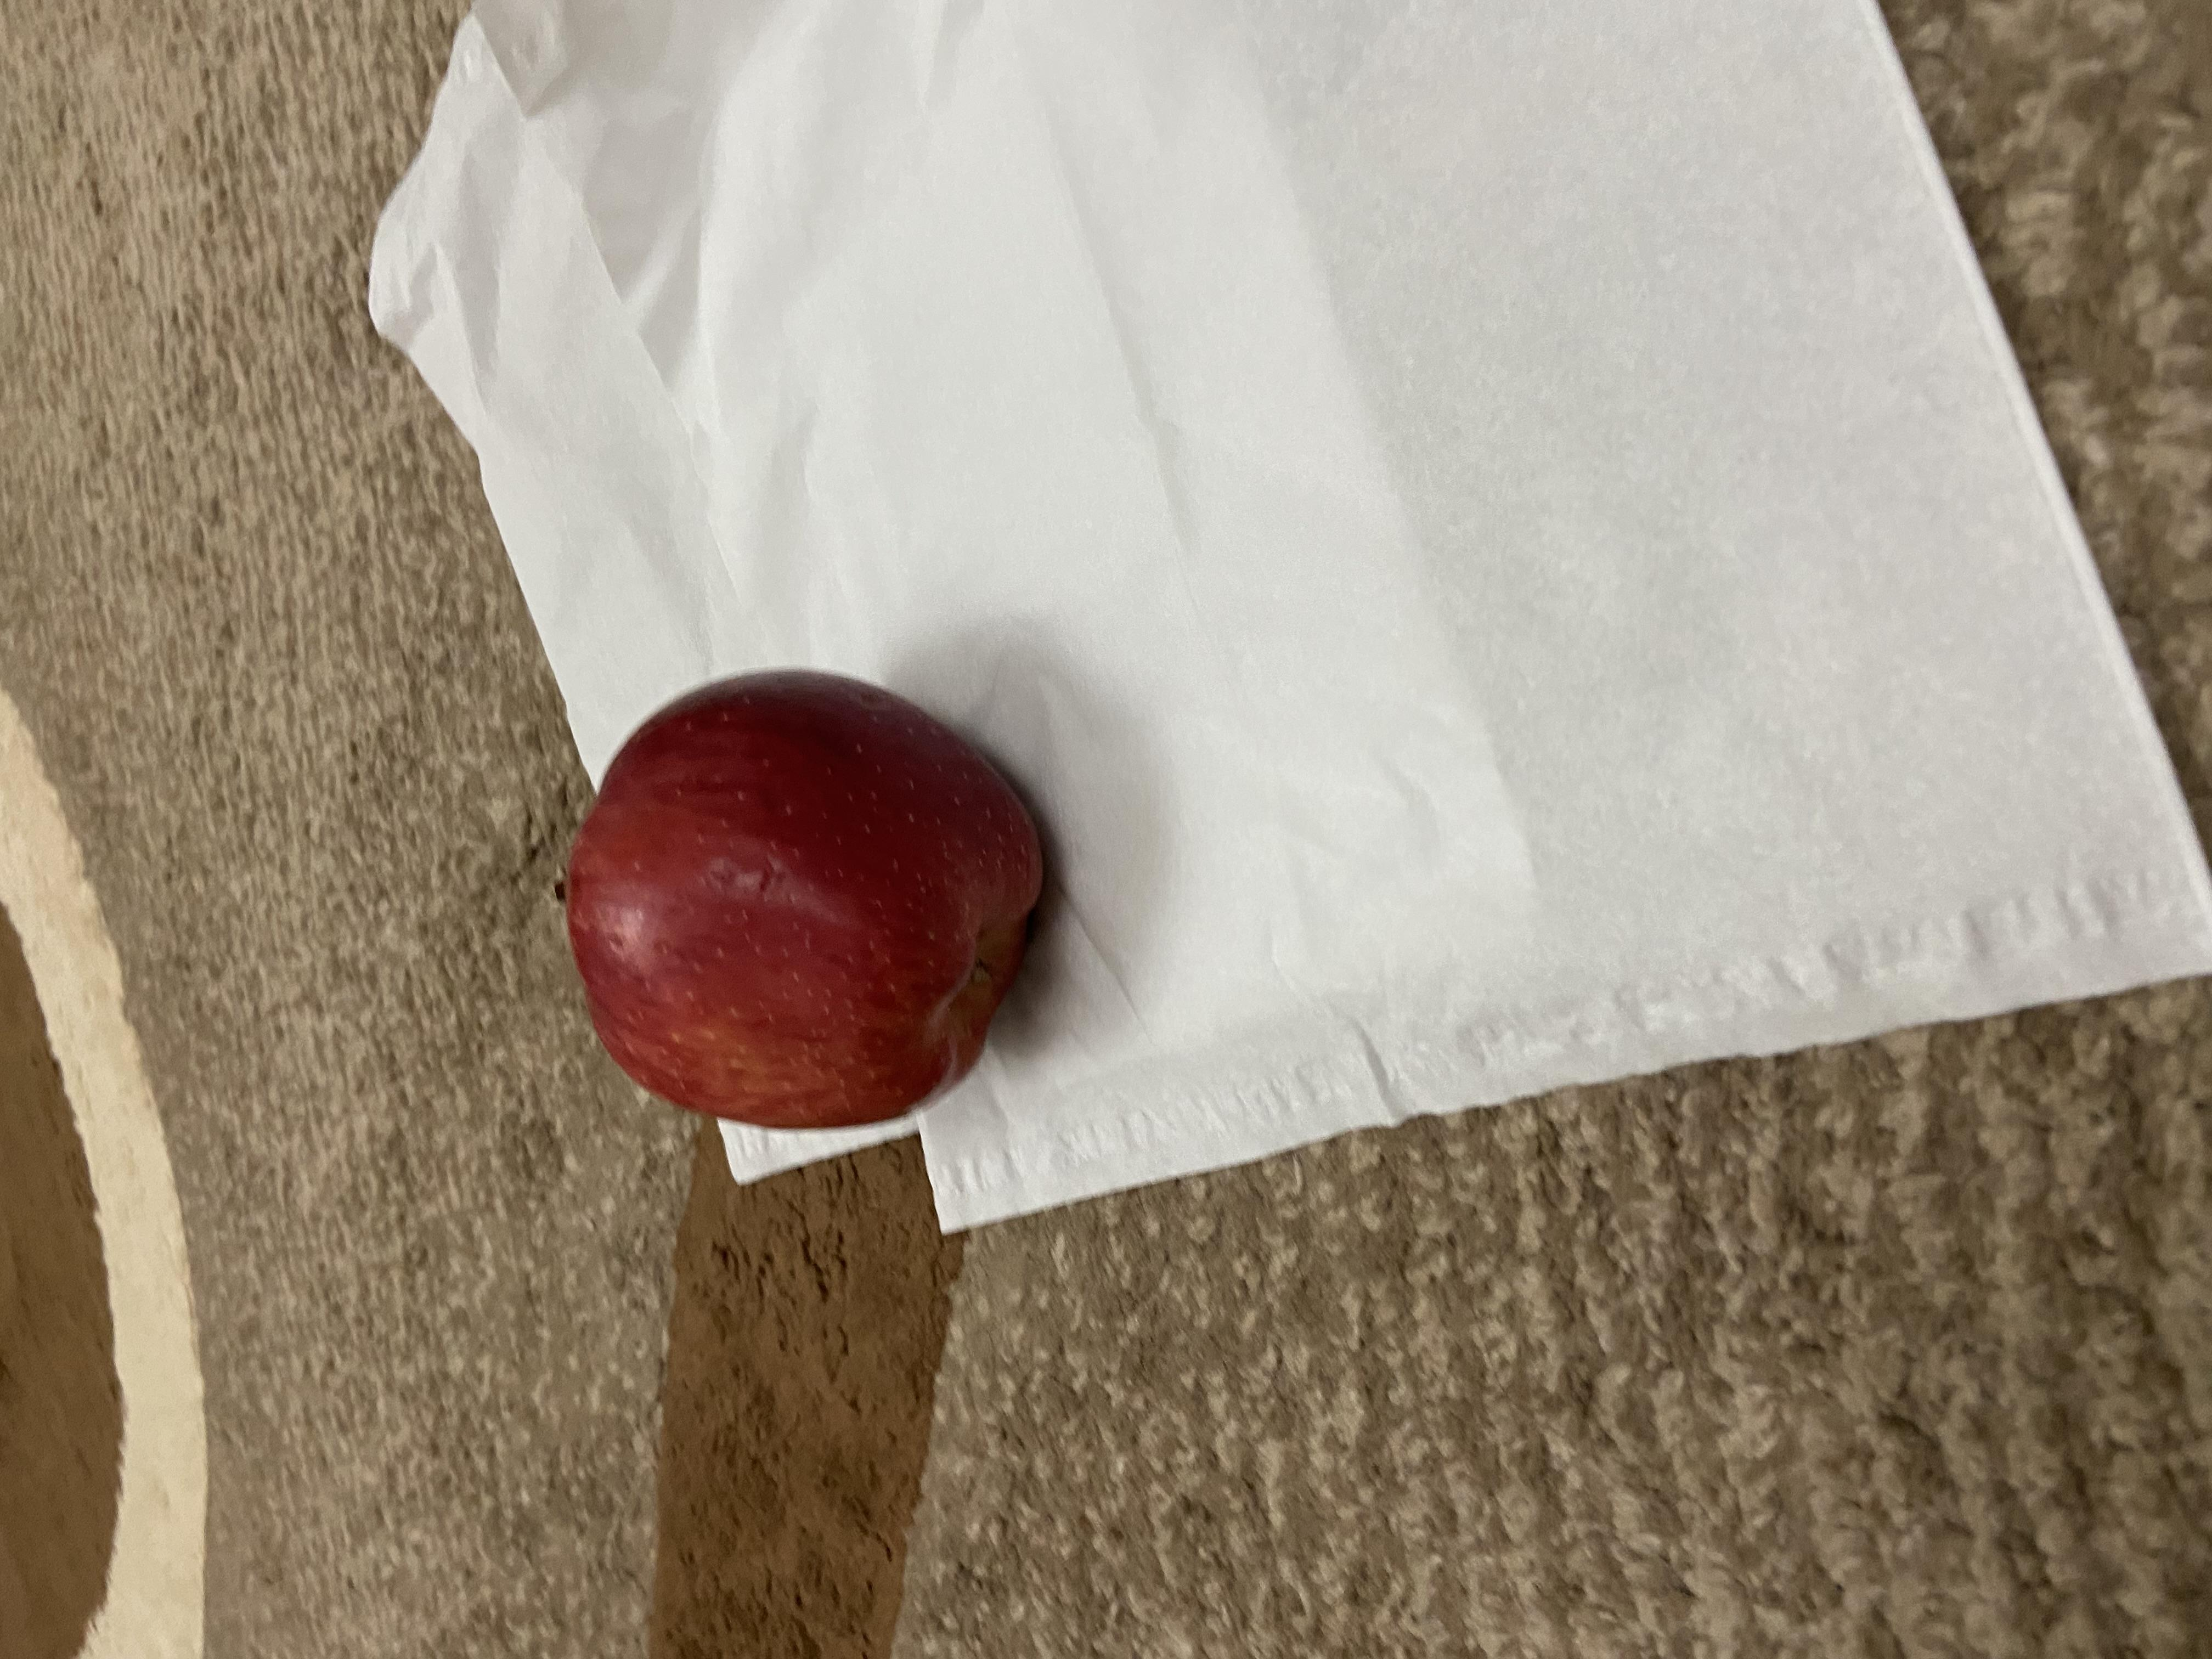Apple: (691, 403, 1339, 802)
